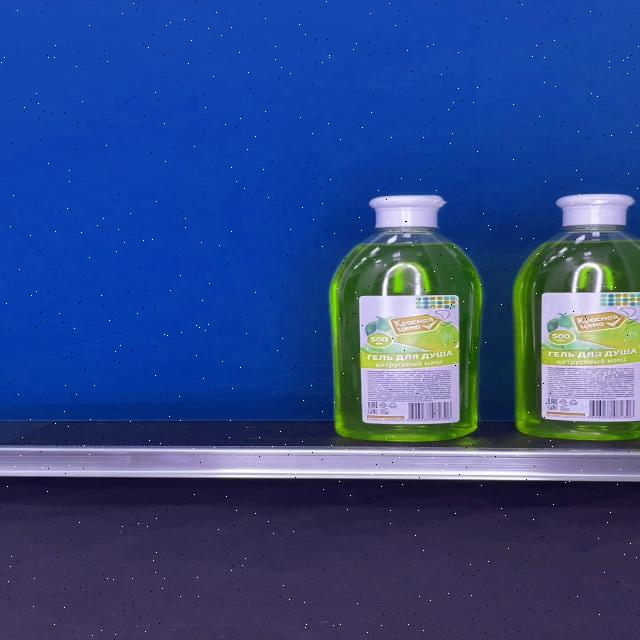Bottle: (331, 194, 482, 441), (514, 194, 640, 440)
Cap: (369, 195, 447, 229), (554, 194, 636, 226)
